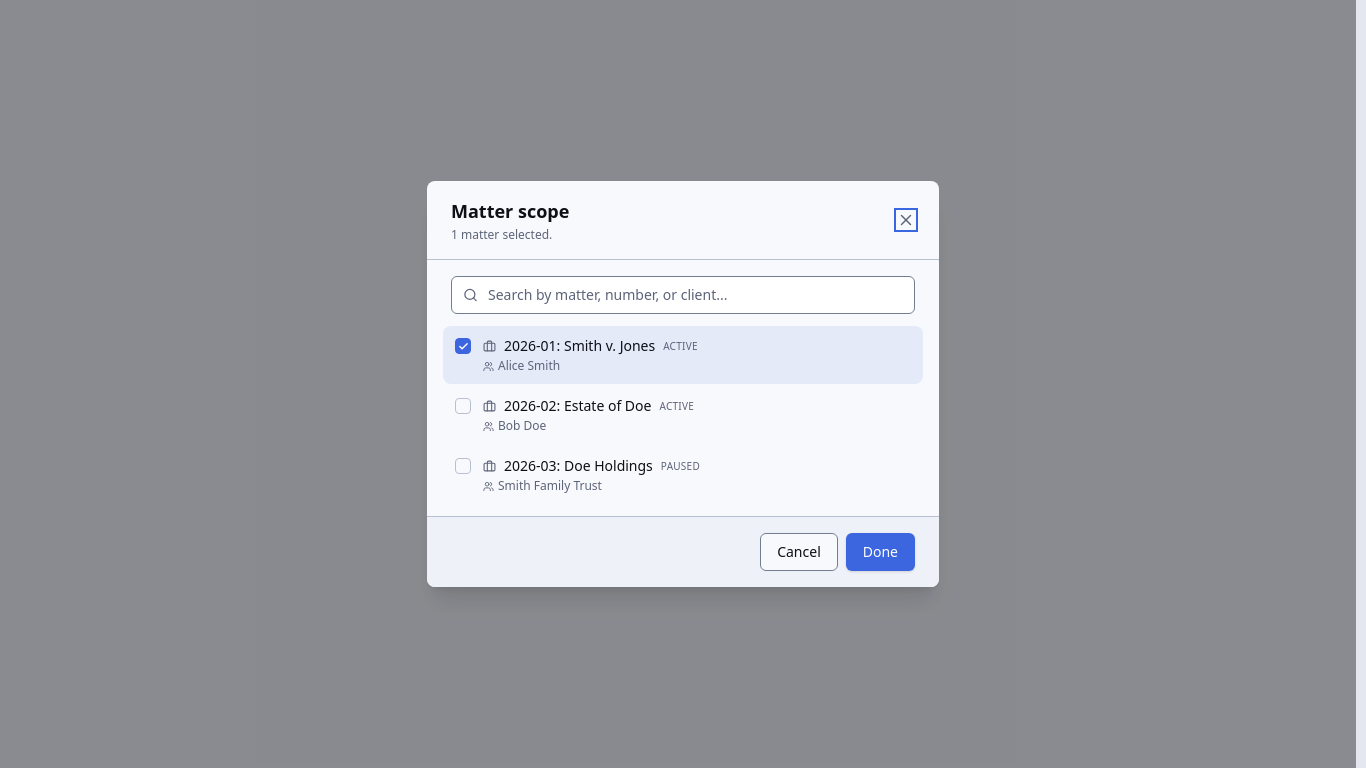
Test case: GroupMattersModal › does not save on row click; stages the change until Done
This screenshot has width=1366, height=768.
Click the button with aria-label "unlink 2026-01: smith v. jones".
click(683, 355)  # box [443,326,923,384]
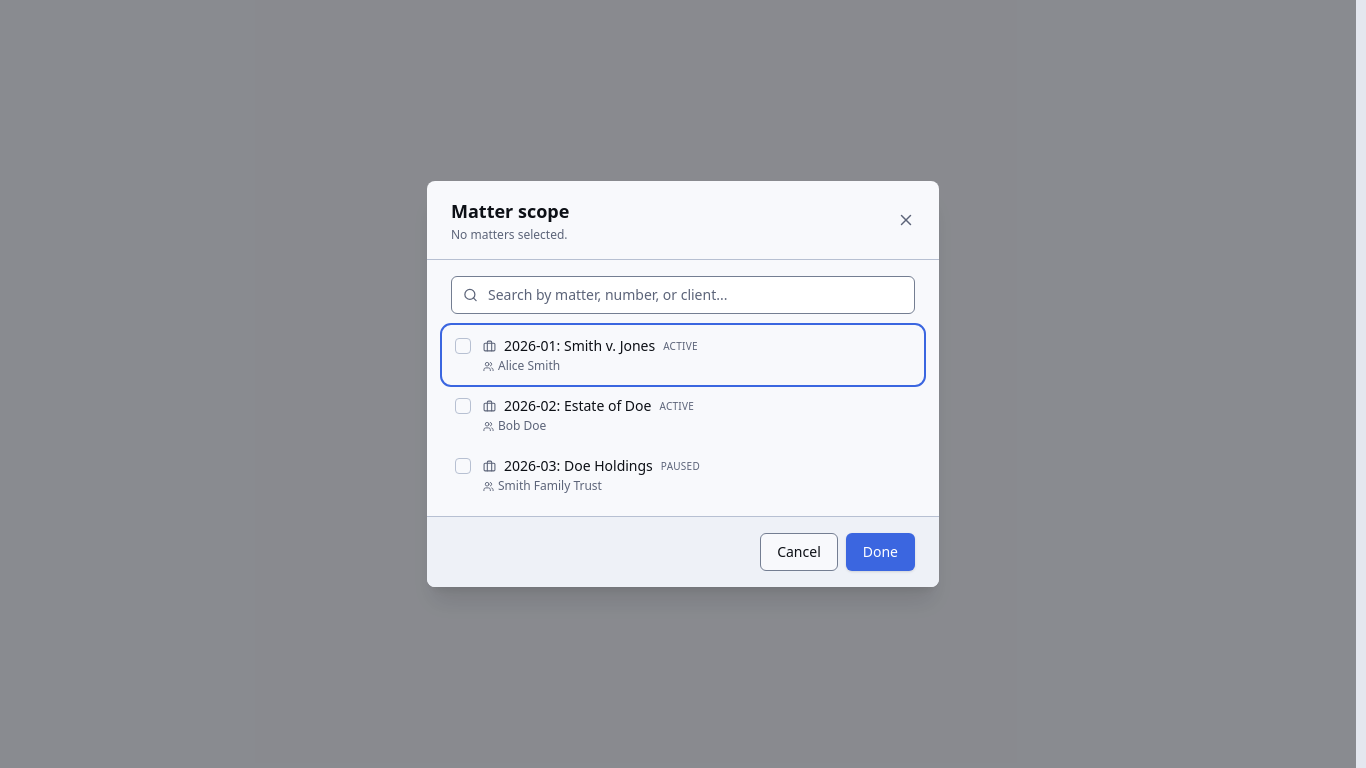
Now the text "No matters selected." is shown, box [451,227,569,243]
